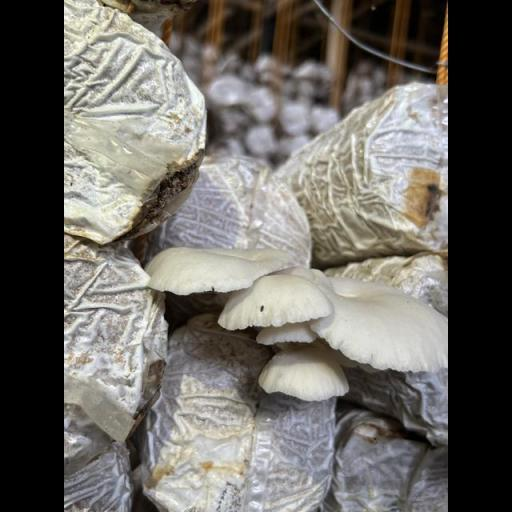White Oyster Mushroom: (146, 247, 442, 397)
